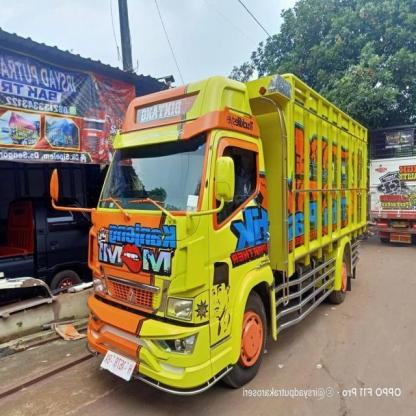truck: (49, 71, 371, 394), (367, 153, 416, 253)
